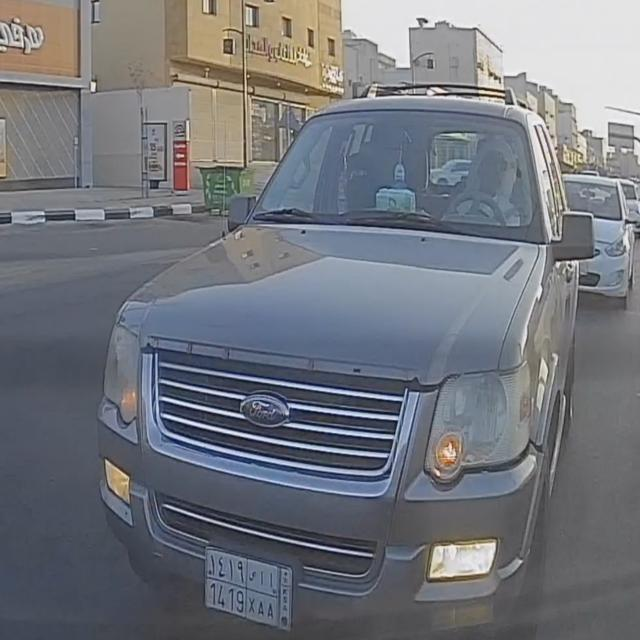person_with_seatbelt: (440, 117, 529, 242)
